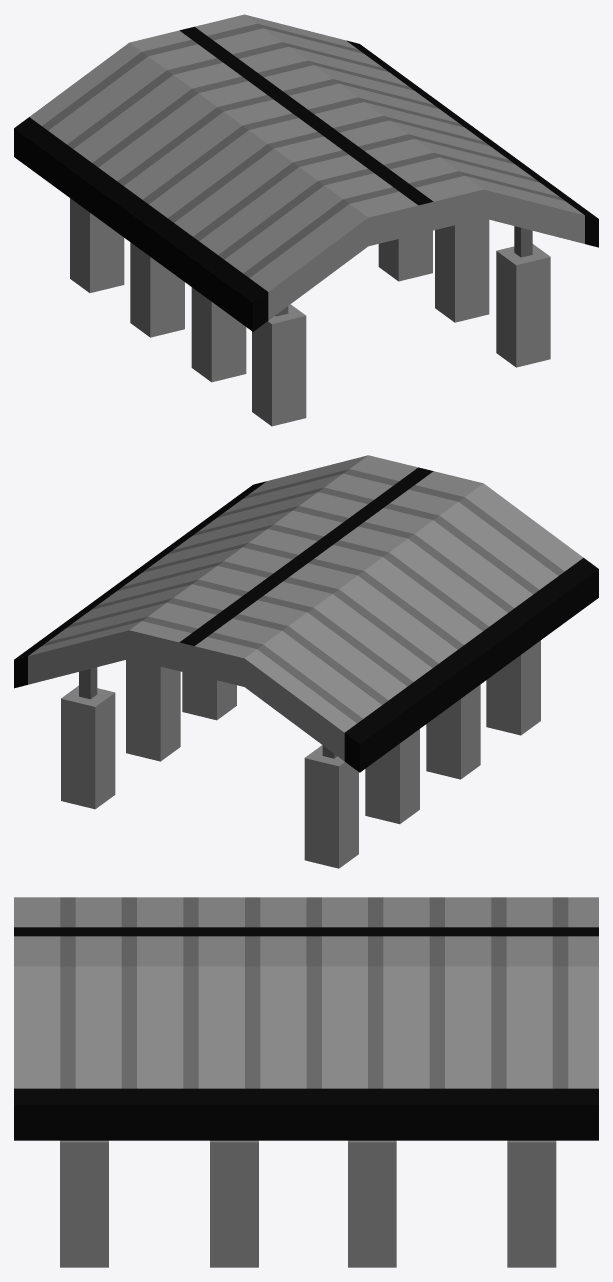
Rendered from BABba.fbx.
3 renders of one model, top to bottom at view 1: azimuth 30°, elevation 25°; view 2: azimuth 150°, elevation 25°; view 3: azimuth 270°, elevation 25°, orthographic. The views are drawn at different scales.
Visible parts, largest first — view 1: Cube; view 2: Cube; view 3: Cube.
Boxes of the visible parts, box(x1,y1,x2,y2) form: Cube: box(14, 14, 598, 426); Cube: box(14, 455, 598, 868); Cube: box(14, 897, 598, 1267).
Bounding box in the file's own units: 13.11 × 7.41 × 15.71.
Materials: 1 (1 with a texture image).
